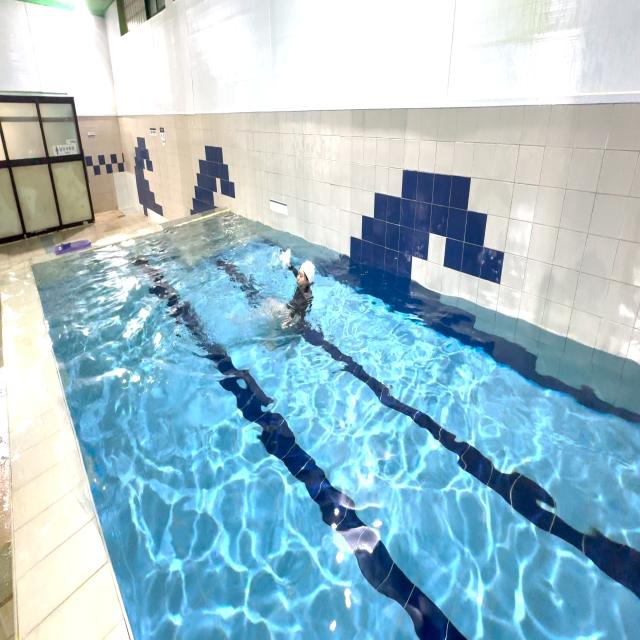Swimming: (258, 247, 316, 335)
